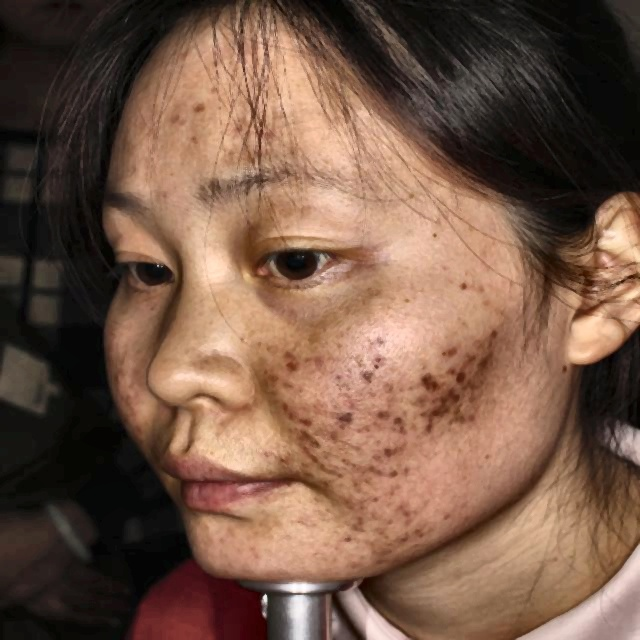pustule: (184, 95, 220, 126), (280, 400, 316, 431), (377, 523, 409, 557), (300, 451, 338, 476), (404, 515, 431, 550), (391, 490, 418, 519), (432, 342, 461, 367), (347, 466, 374, 491), (281, 341, 298, 373)
